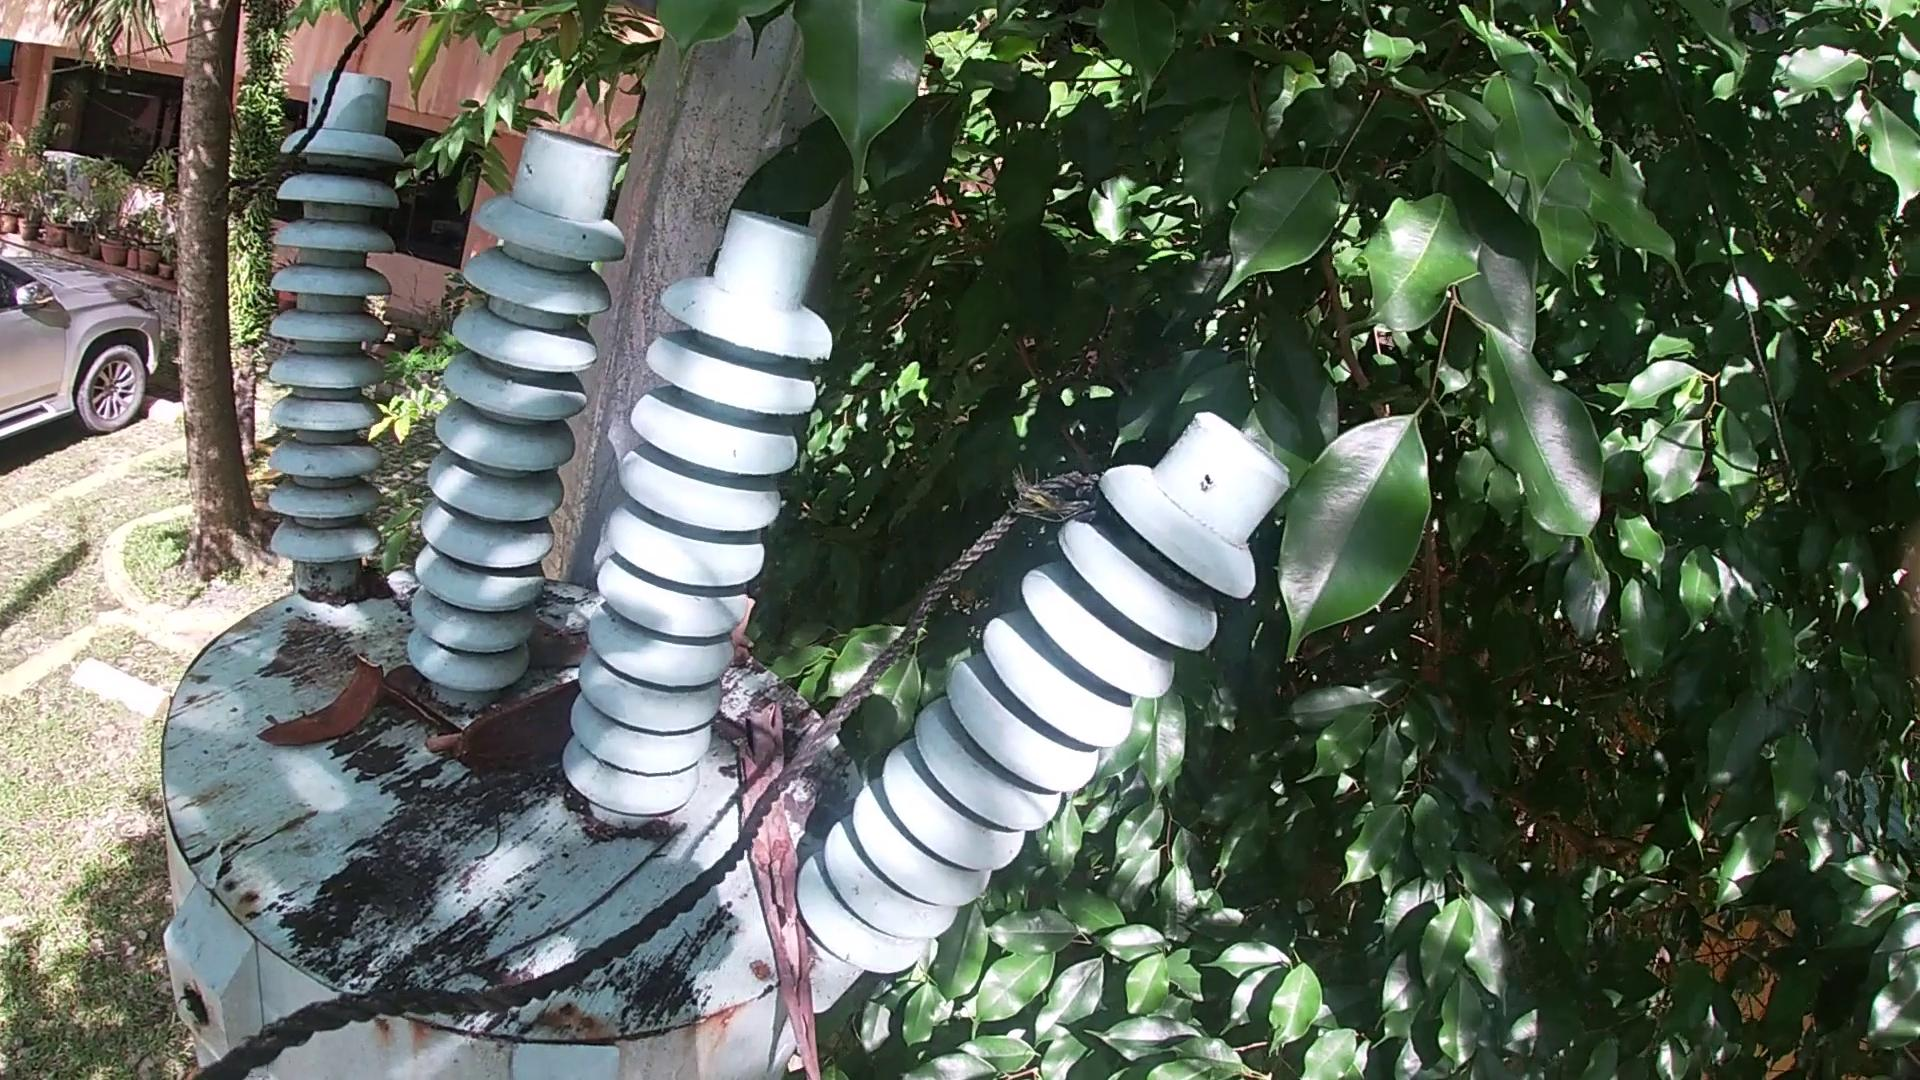leaf: (392, 687, 462, 732)
mahogany fruit: (253, 644, 375, 771), (430, 688, 578, 790)
tree branch: (444, 816, 698, 981), (731, 688, 829, 1080), (454, 781, 514, 872), (513, 644, 592, 684), (729, 593, 760, 674), (401, 732, 452, 767)
